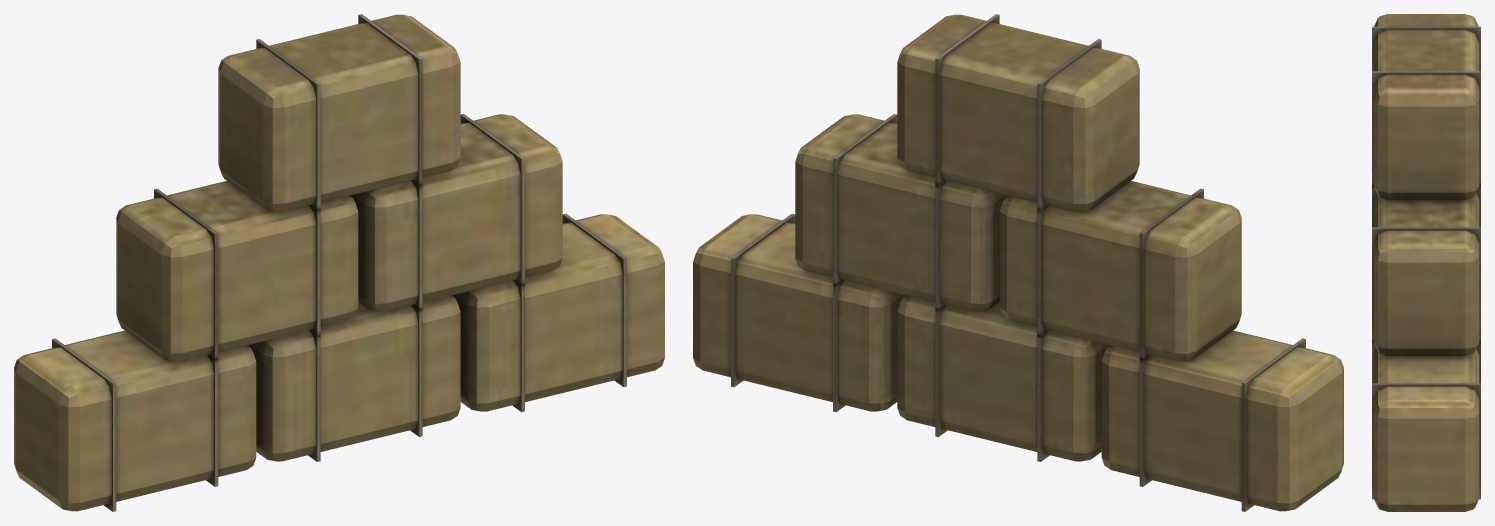
Rendered from haybales.glb.
The picture shows the model from 3 angles, left to right: view 1: azimuth 30°, elevation 25°; view 2: azimuth 150°, elevation 25°; view 3: azimuth 270°, elevation 25°; orthographic projection. The views are drawn at different scales.
Visible parts, largest first — view 1: haybales; view 2: haybales; view 3: haybales.
Part boxes in pixels (bbox=[...]): haybales: bbox=[14, 14, 664, 511]; haybales: bbox=[693, 14, 1343, 511]; haybales: bbox=[1372, 14, 1480, 511].
Size of the model in its own units: 3.55 by 2.12 by 0.62.
Materials: 1 (1 with a texture image).
